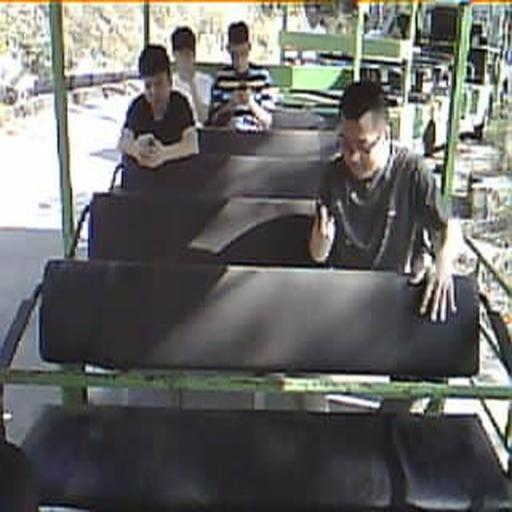persona: (308, 80, 462, 322), (117, 43, 200, 172), (207, 20, 276, 134), (168, 25, 214, 125)
